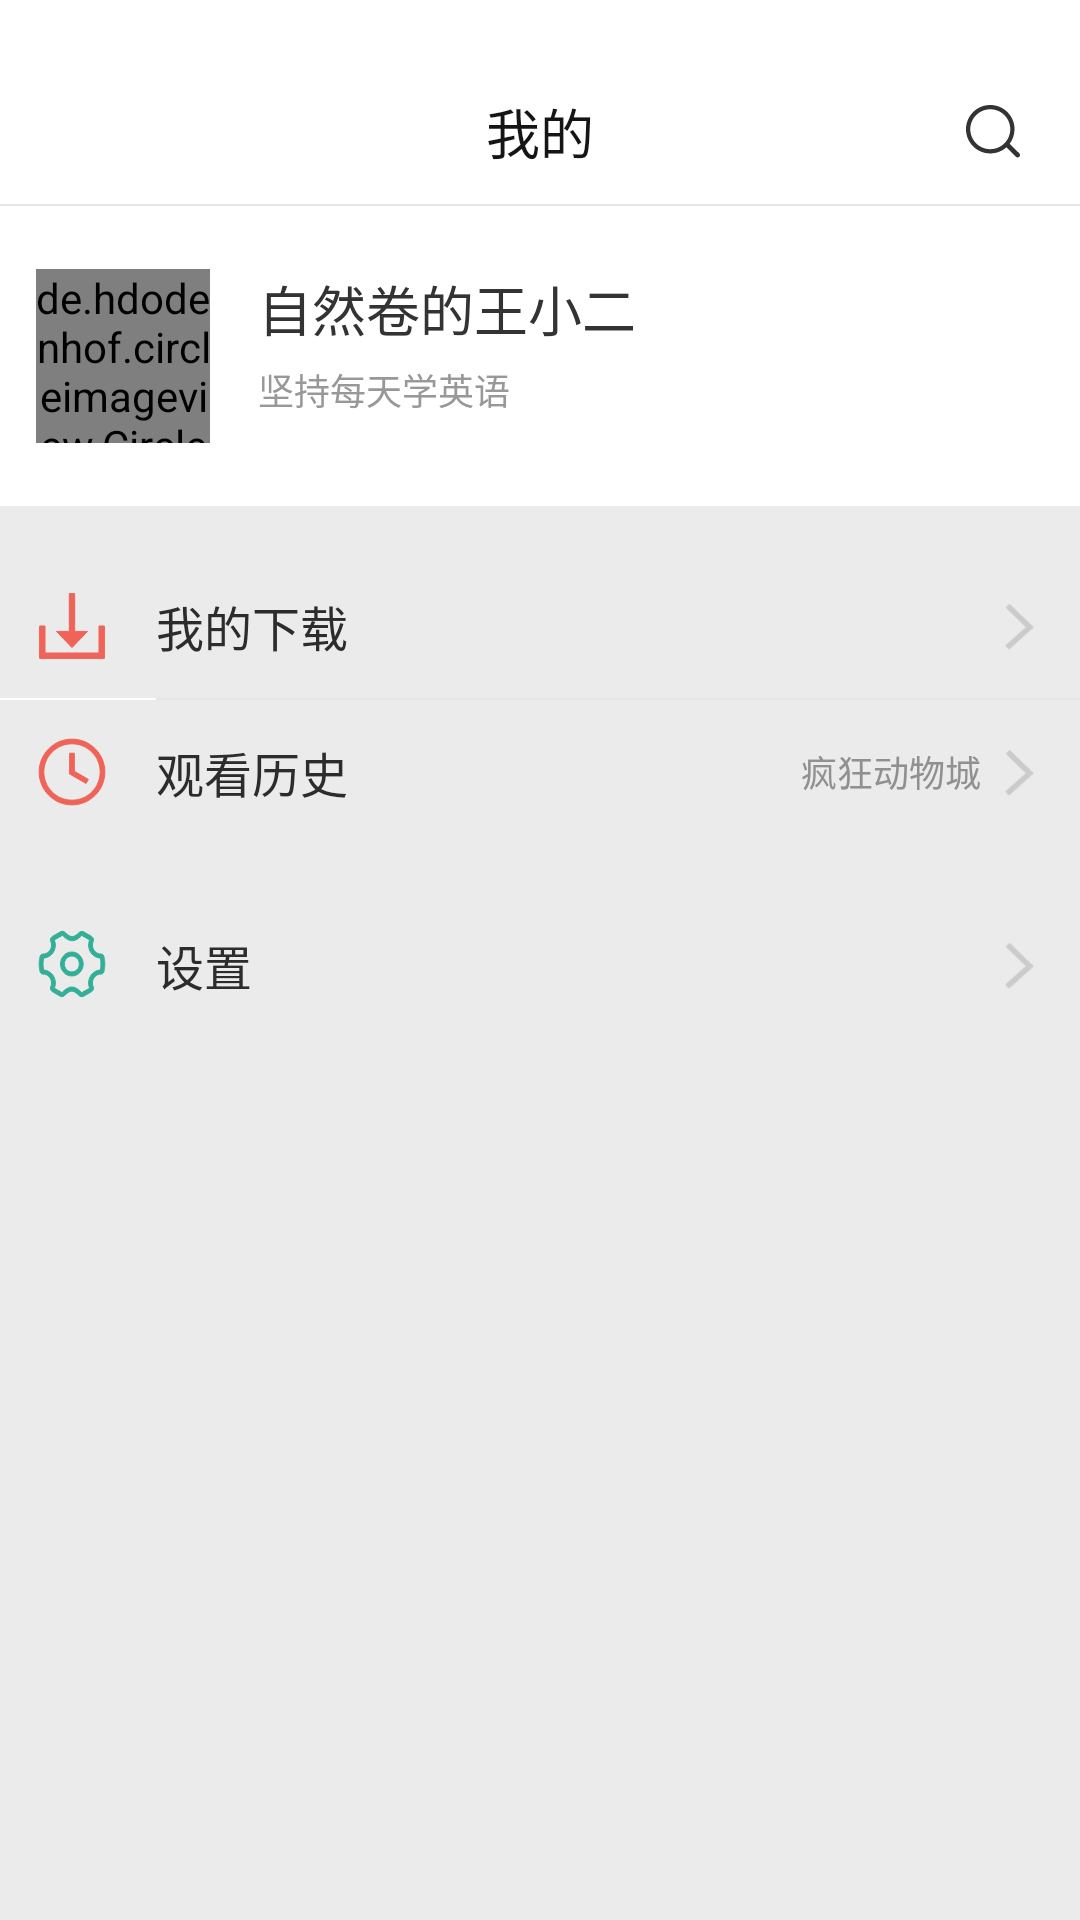

Icons on this 1080px x 1920px Android screen, each with the point to tap as point (x, y):
downloaded user: point (72, 626)
history user: point (72, 772)
search: point (993, 131)
setting: point (72, 964)
to right: point (1019, 627), point (1019, 773), point (1019, 966)
